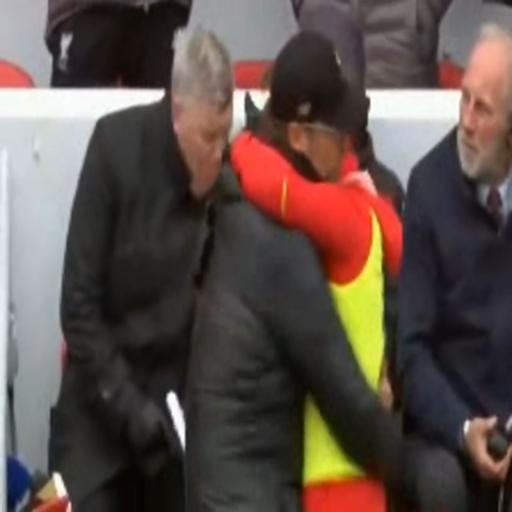nao-violencia: (175, 25, 432, 512)
